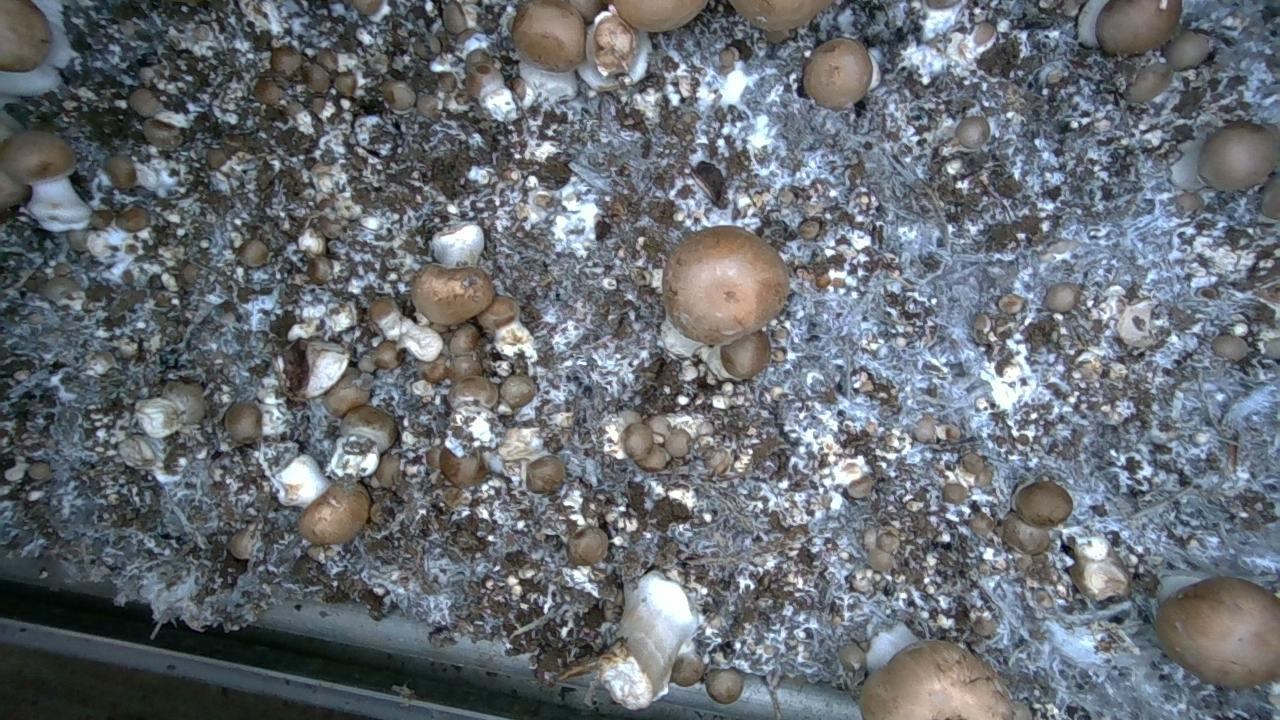BB: (663, 226, 788, 345), (1155, 577, 1279, 687), (860, 641, 1013, 719), (1198, 121, 1279, 190), (512, 0, 585, 71), (411, 263, 493, 325), (803, 37, 872, 109), (298, 481, 370, 545), (1096, 0, 1181, 54), (730, 0, 832, 43), (612, 0, 706, 31), (1013, 481, 1072, 527), (594, 14, 635, 75), (323, 368, 372, 416), (720, 331, 770, 378), (1000, 513, 1050, 554), (1125, 63, 1172, 102), (162, 380, 203, 423), (1164, 30, 1208, 70), (448, 376, 498, 408), (567, 527, 608, 565), (526, 455, 565, 493), (478, 296, 519, 332), (142, 118, 183, 150), (705, 669, 743, 703), (500, 374, 536, 409), (670, 652, 705, 686), (955, 116, 990, 149), (1044, 282, 1080, 312), (1211, 334, 1248, 361), (270, 45, 302, 76), (128, 87, 161, 117), (253, 77, 284, 105), (1260, 174, 1279, 219), (238, 239, 268, 267), (84, 351, 116, 376), (116, 207, 149, 231), (968, 511, 995, 535), (334, 71, 356, 97), (998, 293, 1024, 314), (1012, 702, 1032, 719)
